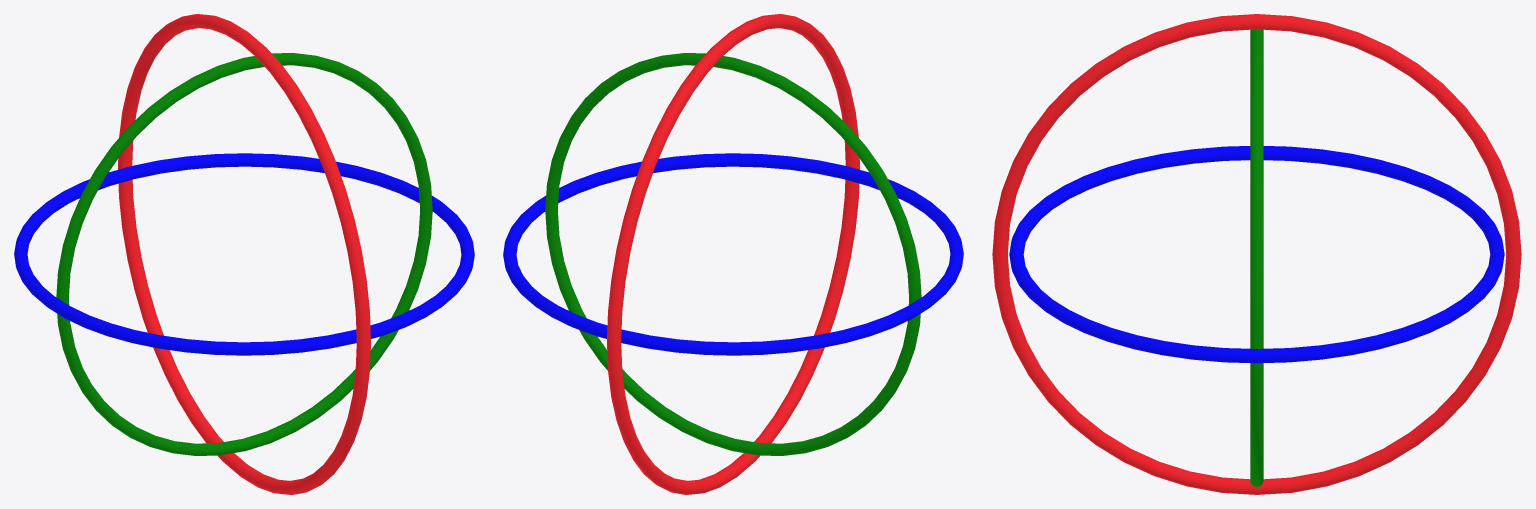
The model's file is rotate_gizmo.gltf.
3 views of the same model, side by side, from view 1: azimuth 30°, elevation 25°; view 2: azimuth 150°, elevation 25°; view 3: azimuth 270°, elevation 25° (orthographic). The views are drawn at different scales.
Visible parts, largest first — view 1: Z, Y, X; view 2: Z, Y, X; view 3: Z, X, Y.
Boxes of the visible parts, <box> form: Z: <box>118,14,370,494</box>; Y: <box>56,53,432,455</box>; X: <box>14,153,474,355</box>; Z: <box>607,14,859,494</box>; Y: <box>545,53,921,455</box>; X: <box>503,153,963,355</box>; Z: <box>992,14,1521,494</box>; X: <box>1009,146,1504,363</box>; Y: <box>1250,29,1263,486</box>.
Size of the model in its own units: 1.93 by 2.06 by 2.06.
3 materials, 3 textured.
